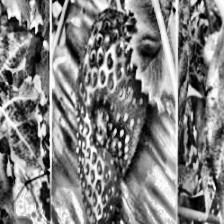Anthracnose Fruit Rot: (87, 94, 135, 181)
